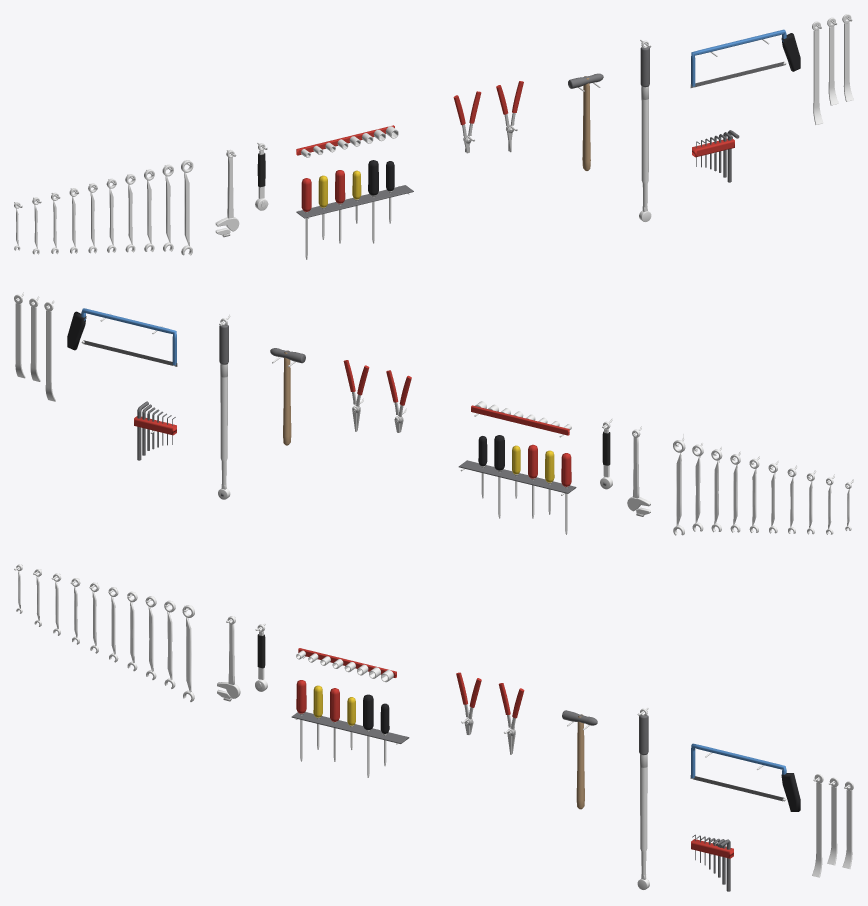
The model's file is pegboard_tools.glb.
3 views of the same model, one above another, from view 1: azimuth 30°, elevation 25°; view 2: azimuth 150°, elevation 25°; view 3: azimuth 330°, elevation 25° (orthographic).
Parts seen in each view (by area): view 1: SM_pegboard_tools; view 2: SM_pegboard_tools; view 3: SM_pegboard_tools.
Boxes of the visible parts, x1=… form: SM_pegboard_tools: x1=14, y1=14, x2=853, y2=259; SM_pegboard_tools: x1=14, y1=292, x2=853, y2=535; SM_pegboard_tools: x1=14, y1=564, x2=853, y2=891.
Size of the model in its own units: 2.75 by 0.5783 by 0.0702.
